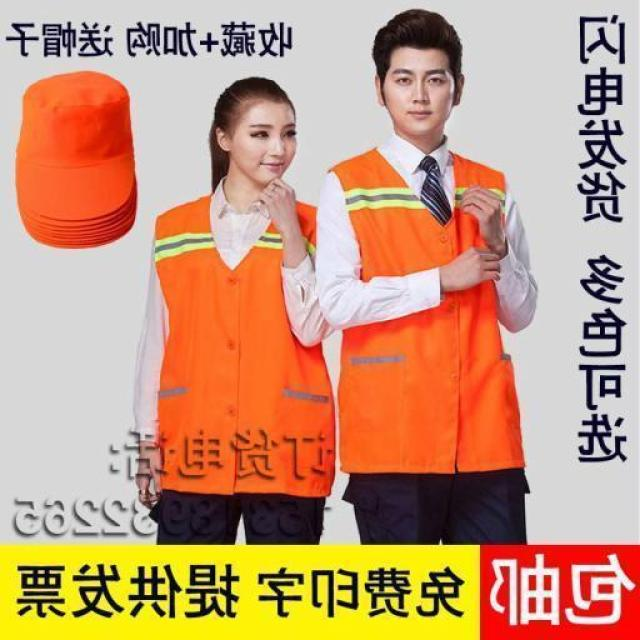face_nomask: (389, 62, 453, 134), (240, 118, 300, 182)
hand_noglove: (444, 180, 514, 240), (436, 242, 506, 298), (255, 174, 305, 228)
head_nohelmet: (370, 3, 470, 68), (212, 68, 302, 126)
person: (326, 14, 549, 541), (126, 72, 332, 548)
vest: (333, 149, 522, 473), (152, 194, 322, 491)
